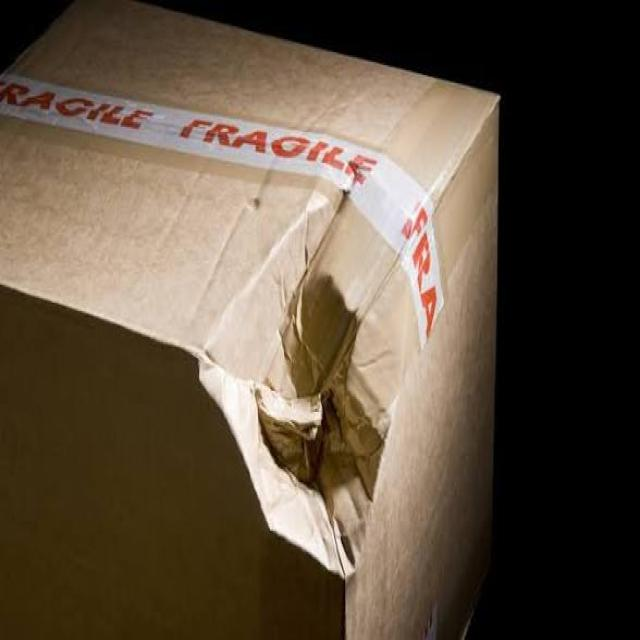carton_box: (2, 3, 500, 635)
fragile_label: (176, 112, 378, 207), (0, 71, 167, 145)
package_damage: (199, 271, 446, 595)
